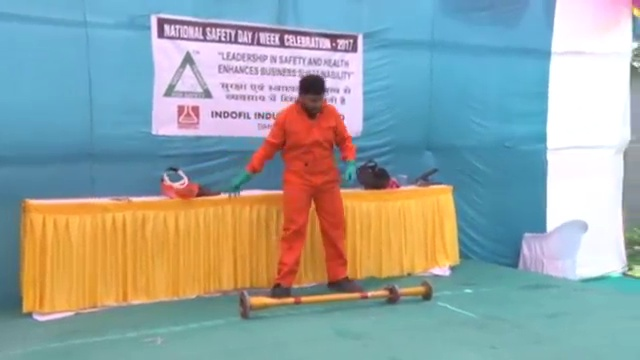helmet_off: (297, 72, 328, 118)
person: (240, 71, 369, 298)
